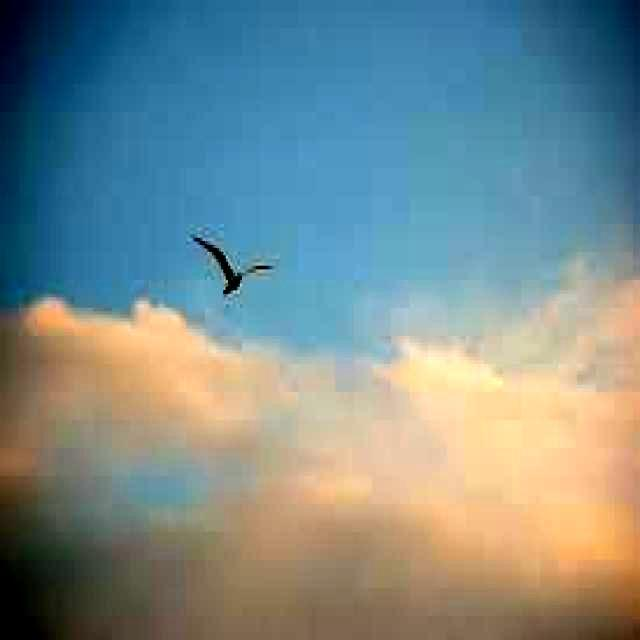bird: (189, 227, 275, 296)
